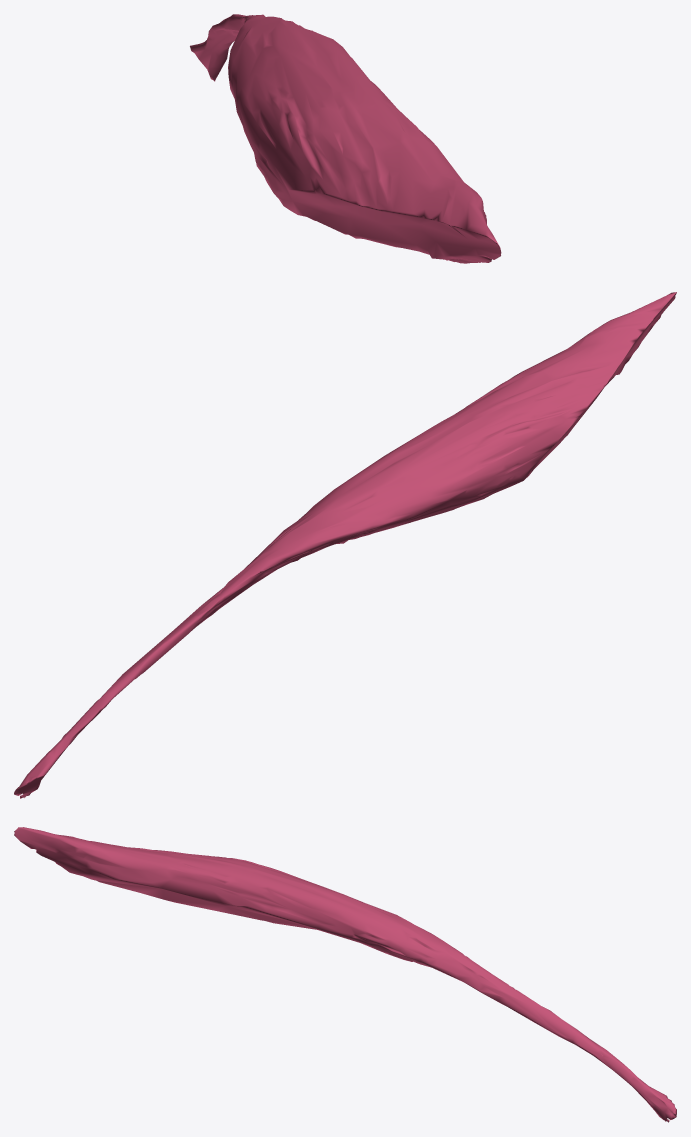
The picture shows the model from 3 angles, top to bottom: view 1: azimuth 30°, elevation 25°; view 2: azimuth 150°, elevation 25°; view 3: azimuth 270°, elevation 25°; orthographic projection. The views are drawn at different scales.
Visible parts, largest first — view 1: 左侧拇长展肌; view 2: 左侧拇长展肌; view 3: 左侧拇长展肌.
Part boxes in pixels (box(x1,y1,x2,y2)): 左侧拇长展肌: box(190, 14, 501, 263); 左侧拇长展肌: box(14, 292, 676, 798); 左侧拇长展肌: box(14, 827, 676, 1122).
Size of the model in its own units: 0.0944 by 0.094 by 0.2767.
